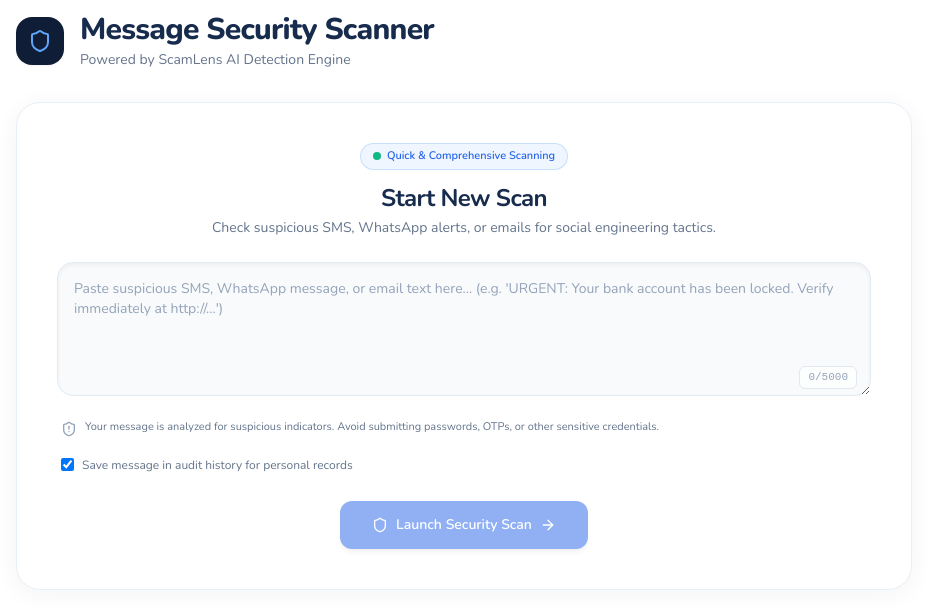
Test: MessageScannerPage Component › updates character count when typing
Type "Hello world" into the text box with placeholder "URGENT: Your bank account" at (464, 328), box [57, 262, 871, 396]
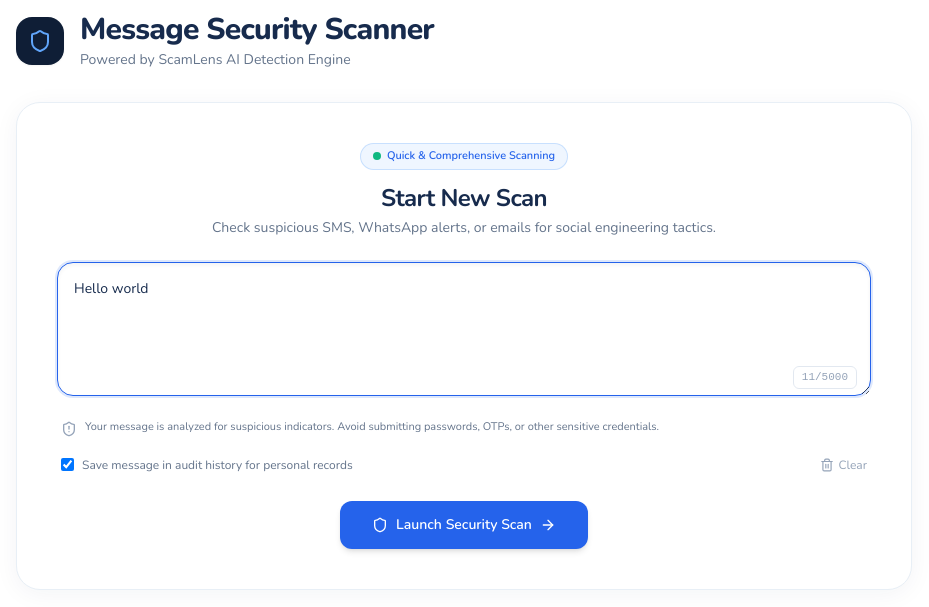
Check: the text "11/5000" is shown, box [793, 366, 857, 388]
